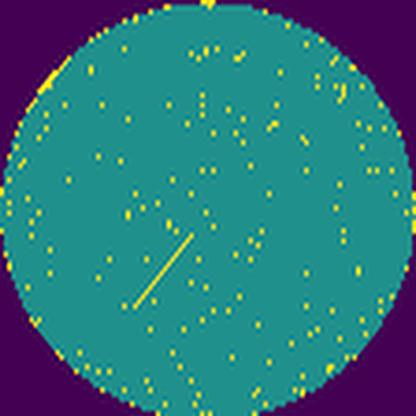Scratch: (128, 230, 196, 316)
